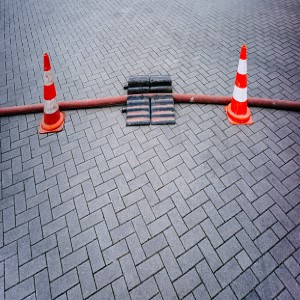traffic cone: (36, 52, 64, 135), (224, 45, 253, 125)
